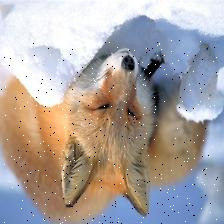fox: (1, 40, 218, 224)
